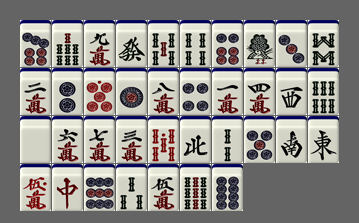0m: (20, 164, 51, 211)
0p: (84, 68, 115, 115)
0s: (148, 116, 179, 163)
1m: (212, 68, 243, 115)
1p: (116, 68, 147, 115)
1s: (244, 20, 275, 67)
1z: (308, 116, 339, 163)
2m: (20, 68, 51, 115)
2p: (52, 68, 83, 115)
2s: (212, 116, 243, 163)
2z: (276, 116, 307, 163)
3m: (116, 116, 147, 163)
3p: (276, 20, 307, 67)
3s: (116, 164, 147, 211)
3z: (276, 68, 307, 115)
4m: (244, 68, 275, 115)
4p: (180, 68, 211, 115)
4s: (180, 20, 211, 67)
4z: (180, 116, 211, 163)
5m: (148, 164, 179, 211)
5p: (244, 116, 275, 163)
5s: (148, 20, 179, 67)
5z: (20, 116, 51, 163)
6m: (52, 116, 83, 163)
6p: (212, 20, 243, 67)
6s: (308, 68, 339, 115)
6z: (116, 20, 147, 67)
7m: (84, 116, 115, 163)
7p: (20, 20, 51, 67)
7s: (52, 20, 83, 67)
7z: (52, 164, 83, 211)
8m: (148, 68, 179, 115)
8p: (212, 164, 243, 211)
8s: (308, 20, 339, 67)
9m: (84, 20, 115, 67)
9p: (84, 164, 115, 211)
9s: (180, 164, 211, 211)
